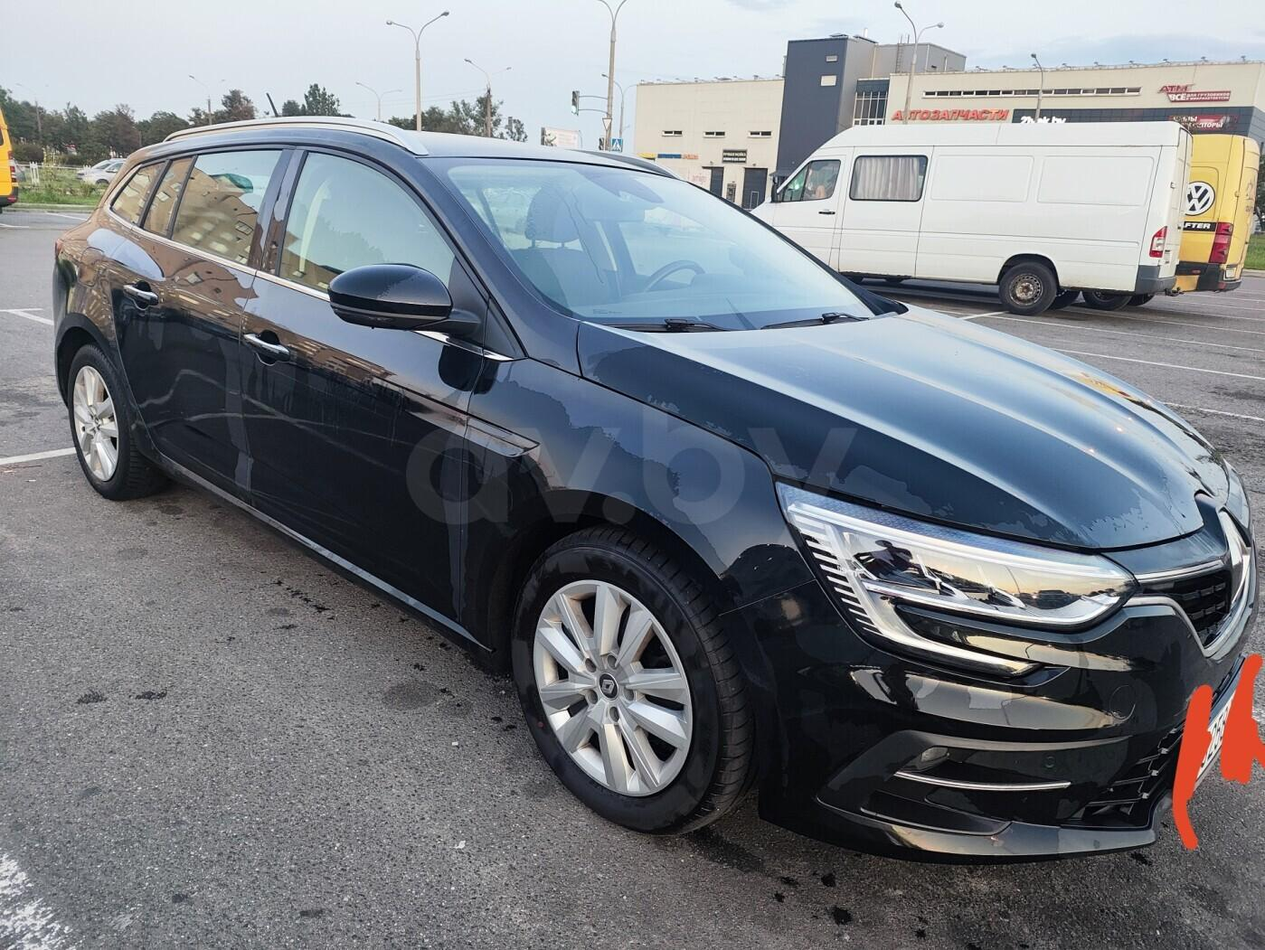Megane_2020: (41, 106, 1250, 887)
